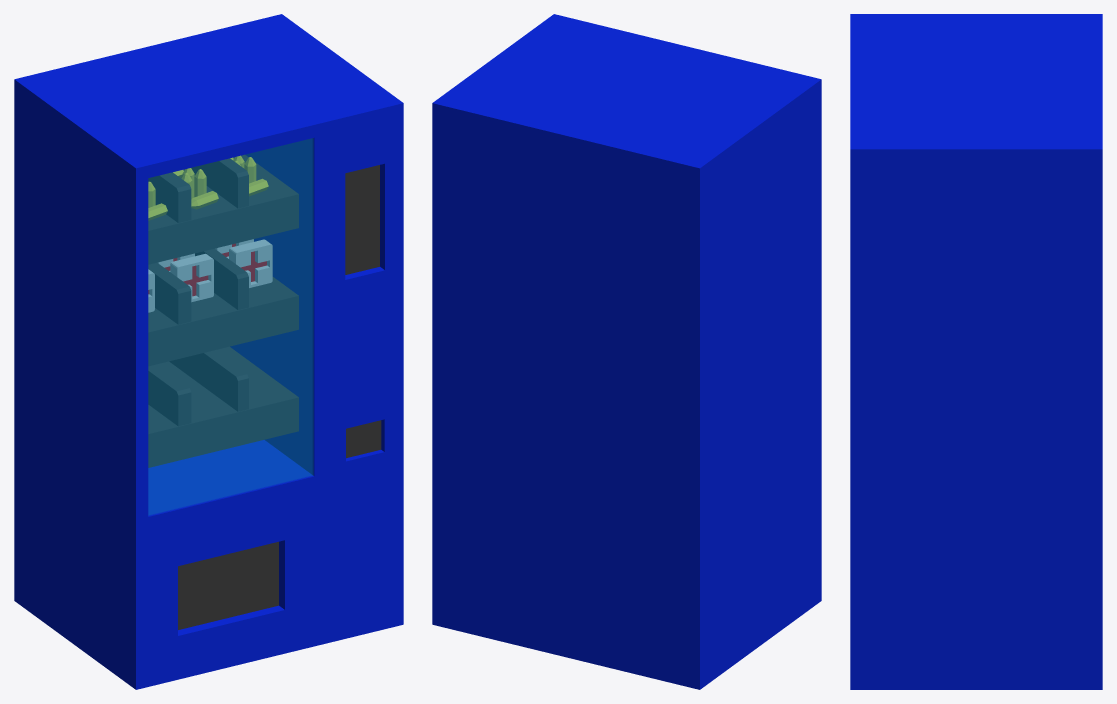
The model's file is vendingmachine.glb.
The picture shows the model from 3 angles, left to right: view 1: azimuth 30°, elevation 25°; view 2: azimuth 150°, elevation 25°; view 3: azimuth 270°, elevation 25°; orthographic projection. The views are drawn at different scales.
Parts seen in each view (by area): view 1: Cube; view 2: Cube; view 3: Cube.
Part boxes in pixels (<box>): Cube: <box>14,14,403,689</box>; Cube: <box>432,14,821,689</box>; Cube: <box>850,14,1102,689</box>.
Bounding box in the file's own units: 2.54 × 4.73 × 2.
